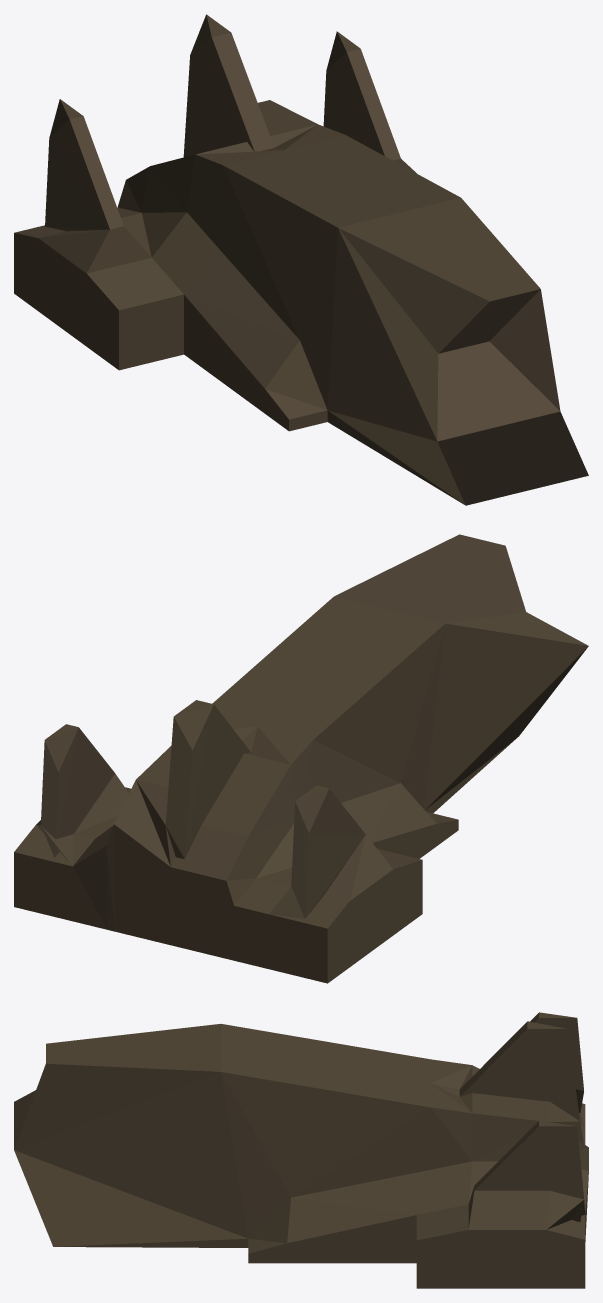
The model's file is naveGraficas.obj.
The picture shows the model from 3 angles, top to bottom: view 1: azimuth 30°, elevation 25°; view 2: azimuth 150°, elevation 25°; view 3: azimuth 270°, elevation 25°; orthographic projection. The views are drawn at different scales.
Visible parts, largest first — view 1: Nave; view 2: Nave; view 3: Nave.
Part boxes in pixels (left/top/right/bottom): Nave: left=14, top=14, right=588, bottom=505; Nave: left=14, top=534, right=588, bottom=983; Nave: left=14, top=1012, right=588, bottom=1288.
Size of the model in its own units: 4.96 by 3.32 by 8.88.
